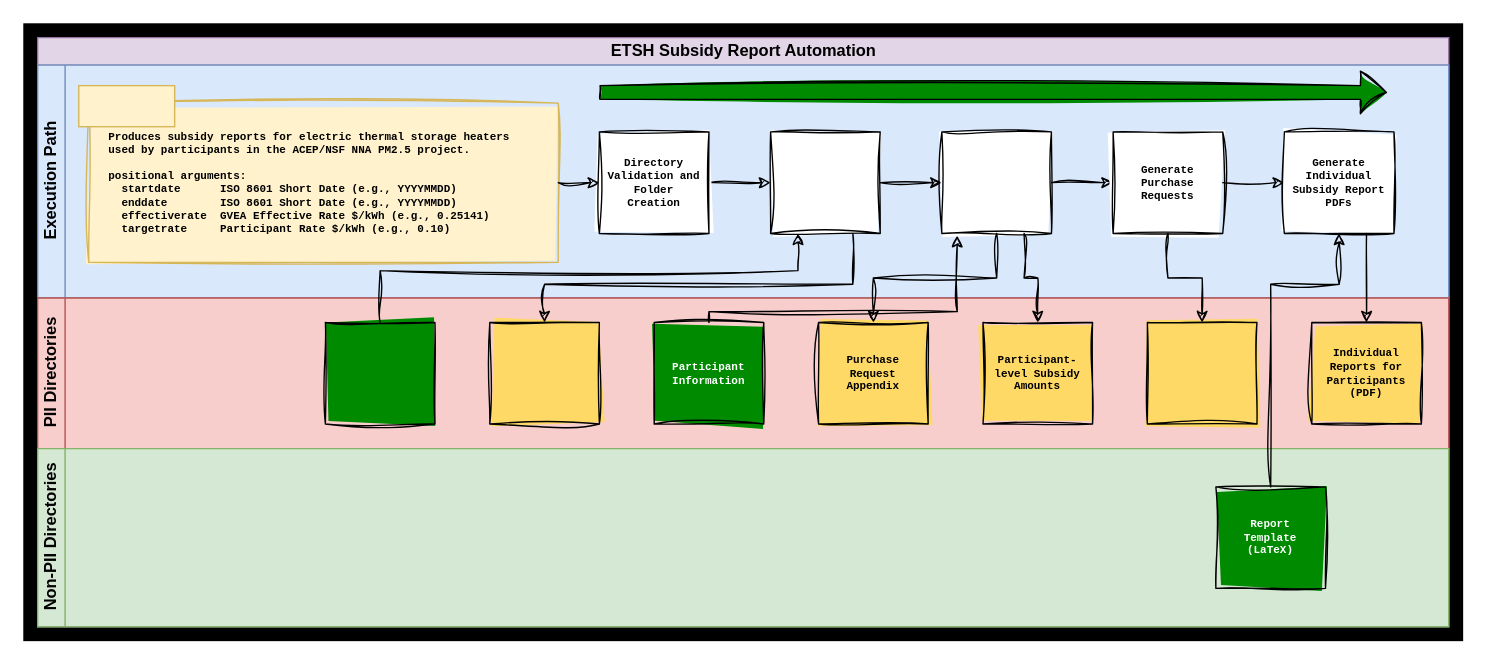
The diagram is 1486 pixels wide and 664 high, and some of its shapes have lost their labels. Here are the shapes that lost their labels. From the top down, the centre of each, then its label:
(x=126, y=105): report.py
(x=824, y=182): ETSH Sensor Data Download, Standardize, and Store
(x=996, y=182): Calculate Participant Subidies
(x=379, y=372): Sensor Data URL
(x=543, y=372): Standardized Sensor Data for Billing Cycle
(x=1201, y=372): Billing Cycle Purchase Request Form
